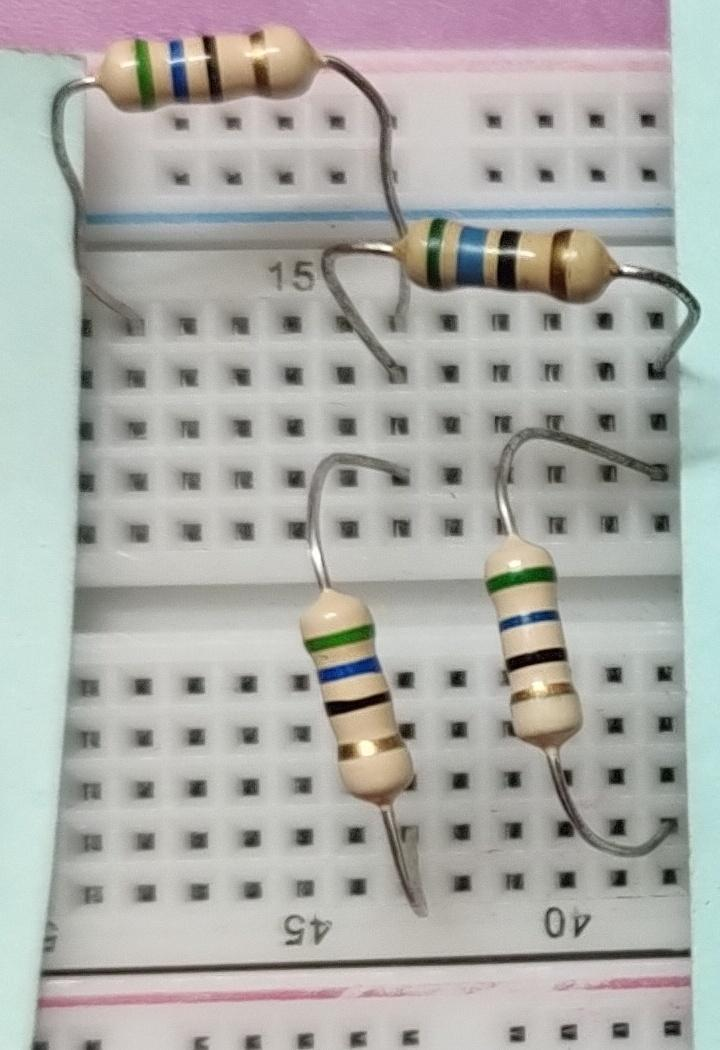resistor: (287, 573, 422, 819), (473, 521, 591, 763), (391, 203, 633, 311), (85, 21, 331, 113)
